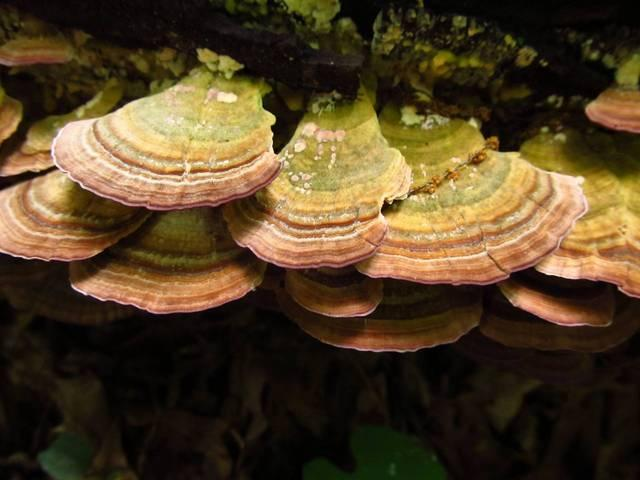Non-edible Mushroom: (221, 77, 640, 353), (0, 63, 282, 333)
